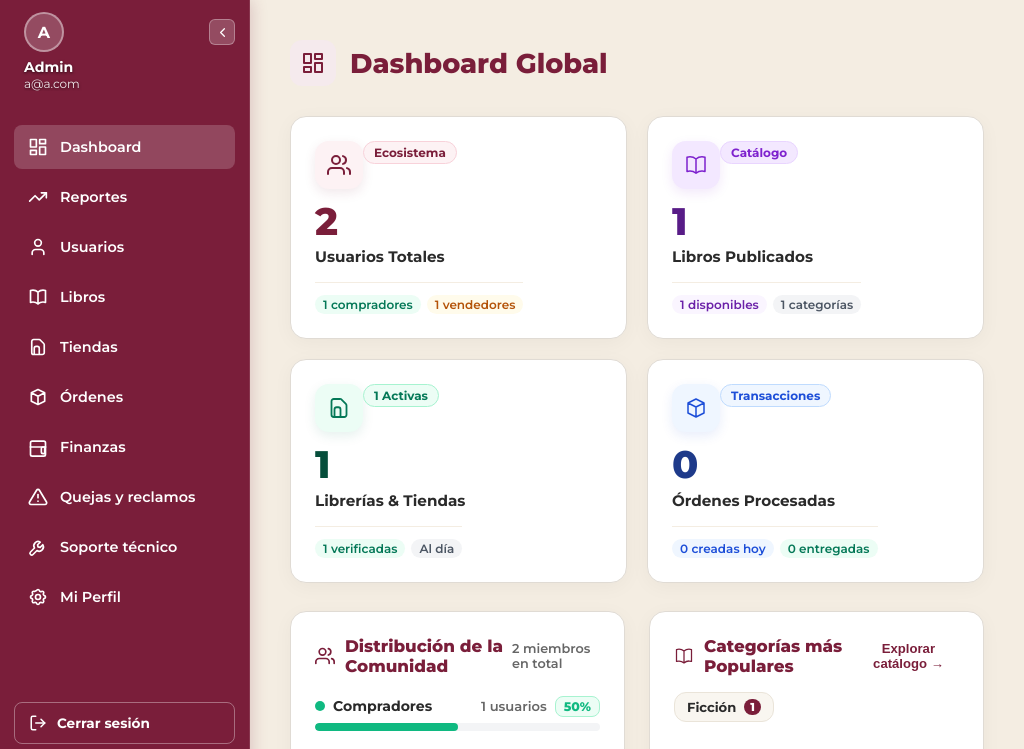
Scenario: AdminDashboard — navegación a secciones › navega a sección Libros y muestra lista
The image size is (1024, 749).
Click the button "Libros" at [124, 297], box [14, 275, 235, 319]
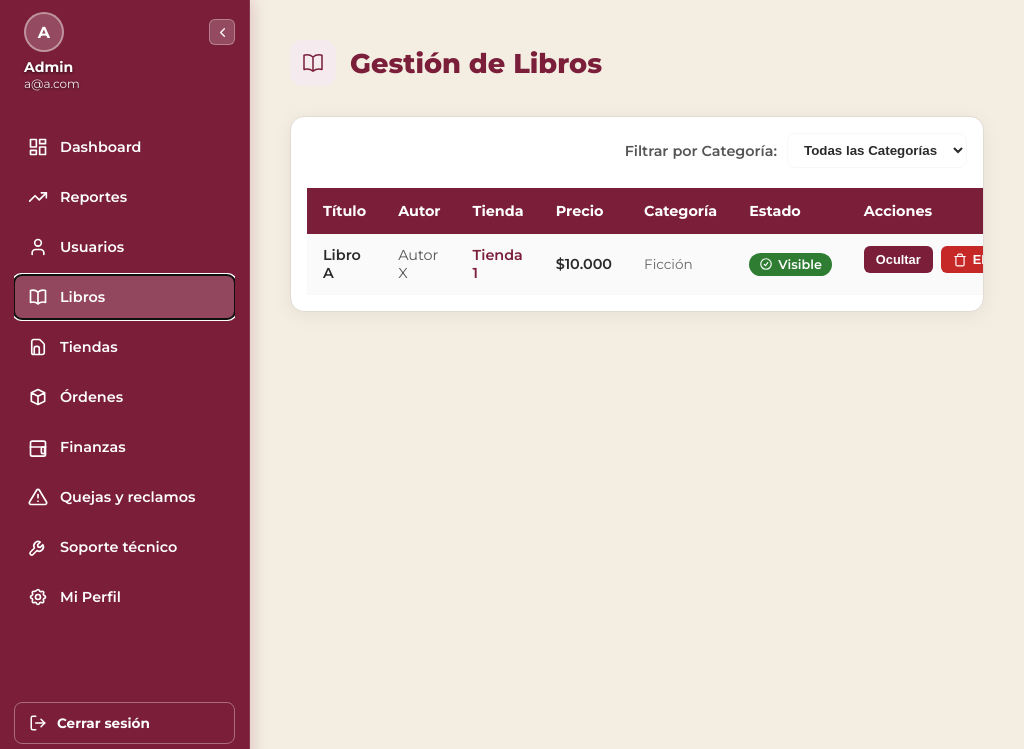
Result: the text "Libro A" is shown at [307, 234, 382, 294]
